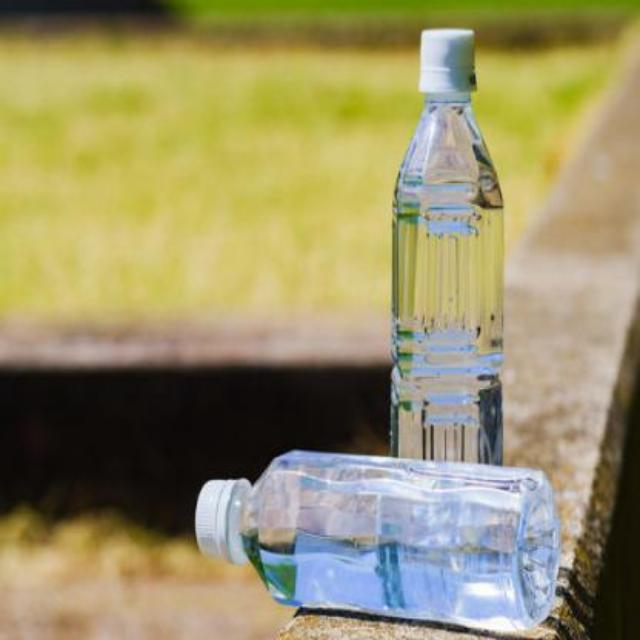bottle: (380, 12, 508, 616), (182, 443, 568, 638)
